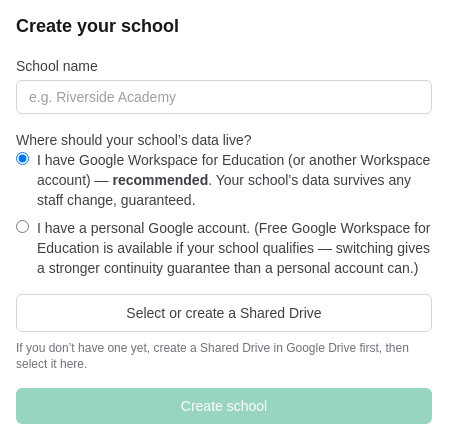
Scenario: NewSchoolClient › shows an error and stays on the form if creation fails
This screenshot has width=449, height=441.
expect the heading "Create your school" is shown: met, box left=16, top=16, right=179, bottom=36
Type "Riverside Academy" into the field labelled "School name". click: [224, 97]
box: left=16, top=80, right=432, bottom=114
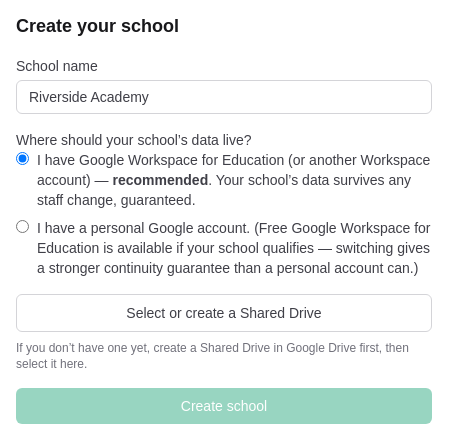
Click the radio button labelled "I have a personal Google account". click: [22, 226]
box: left=16, top=220, right=29, bottom=233
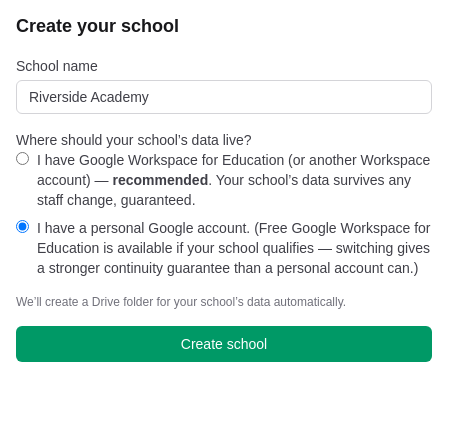
Click the button "Create school". click: [224, 344]
box: left=16, top=326, right=432, bottom=362
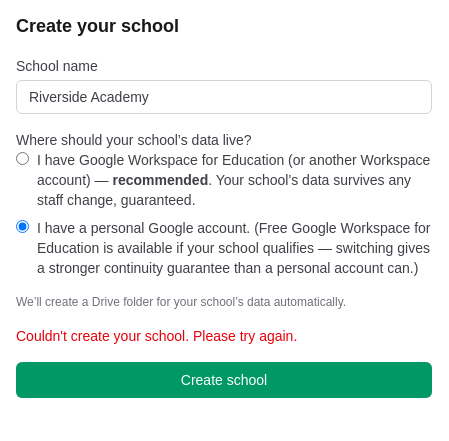
expect the button "Create school" is shown: met, box left=16, top=362, right=432, bottom=398
expect the text "Couldn't create your school. Please try again." is shown: met, box left=16, top=328, right=297, bottom=344
